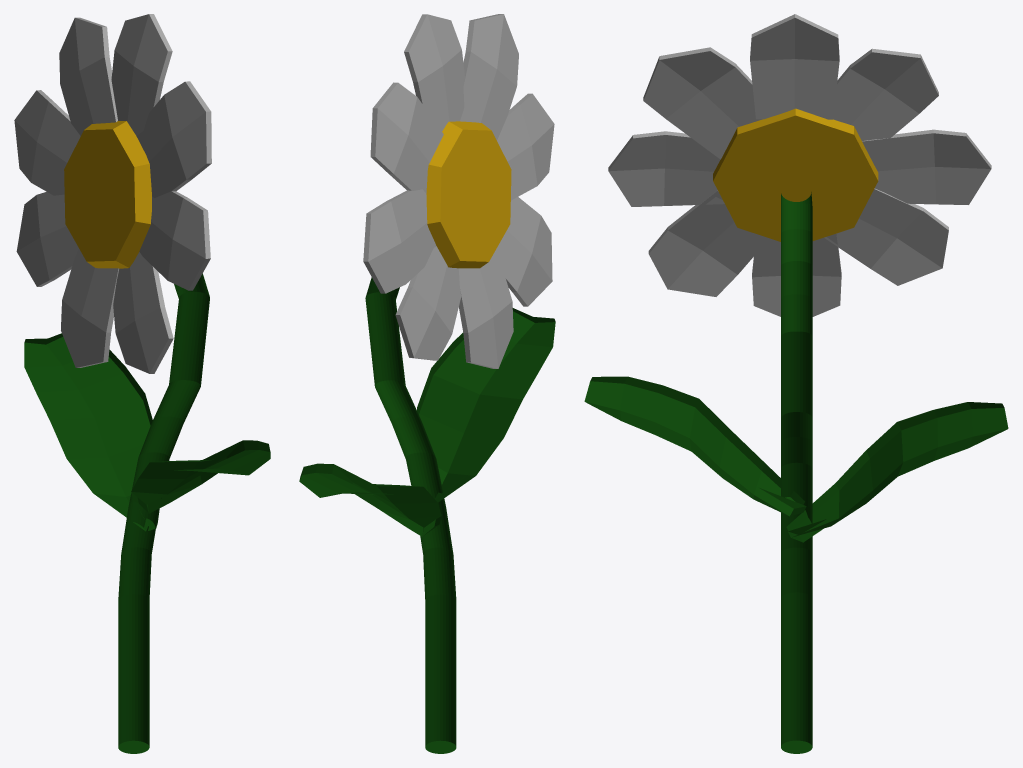
The model's file is Flor 1.obj.
The picture shows the model from 3 angles, left to right: view 1: azimuth 30°, elevation 25°; view 2: azimuth 150°, elevation 25°; view 3: azimuth 270°, elevation 25°; orthographic projection.
Parts seen in each view (by area): view 1: Cylinder.008_Cylinder.010; view 2: Cylinder.008_Cylinder.010; view 3: Cylinder.008_Cylinder.010.
Boxes of the visible parts, left/top/right/bottom form: Cylinder.008_Cylinder.010: left=14, top=14, right=270, bottom=753; Cylinder.008_Cylinder.010: left=299, top=14, right=555, bottom=753; Cylinder.008_Cylinder.010: left=584, top=14, right=1008, bottom=753.
Size of the model in its own units: 1.26 by 6.65 by 3.45.
